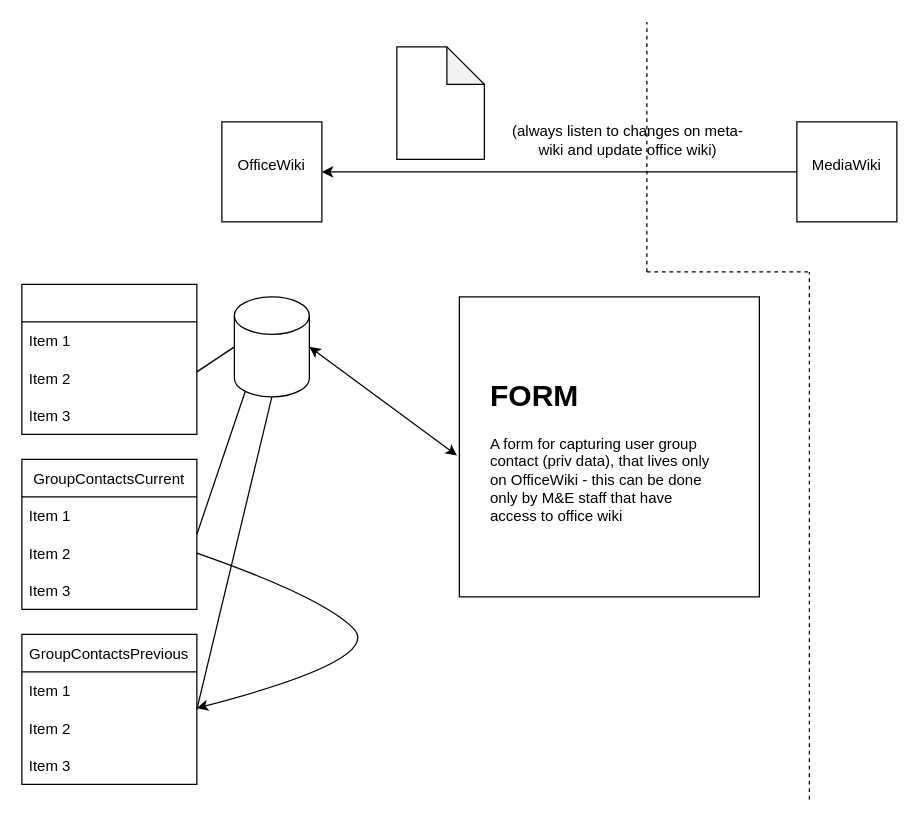
Some shapes in this 919 by 823 pixel diagram are drawn without their labels. Here are the shapes that lost their labels. From the top down, the box of each, then its label:
(396, 46, 484, 159): orginfo table data import script
(21, 283, 197, 434): OrgInfoTable
